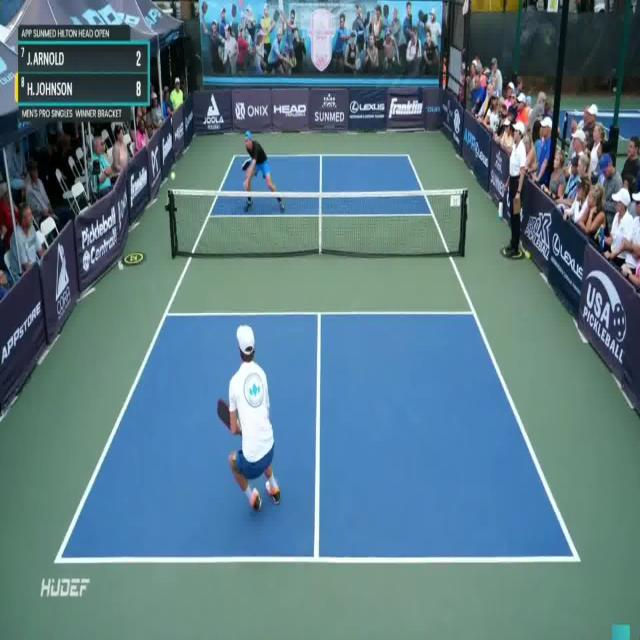Court: (54, 155, 576, 559)
ball: (169, 168, 177, 182)
